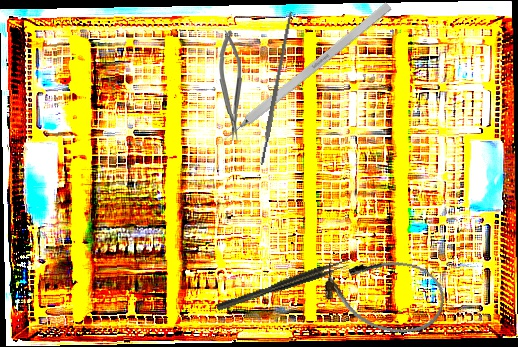Cannula: (317, 245, 451, 343)
Hook Surgical: (212, 1, 393, 151)
Needle Holder: (218, 29, 243, 142)
Scalpel Handle: (258, 10, 294, 166)
Tissue Forceps: (214, 257, 351, 312)
